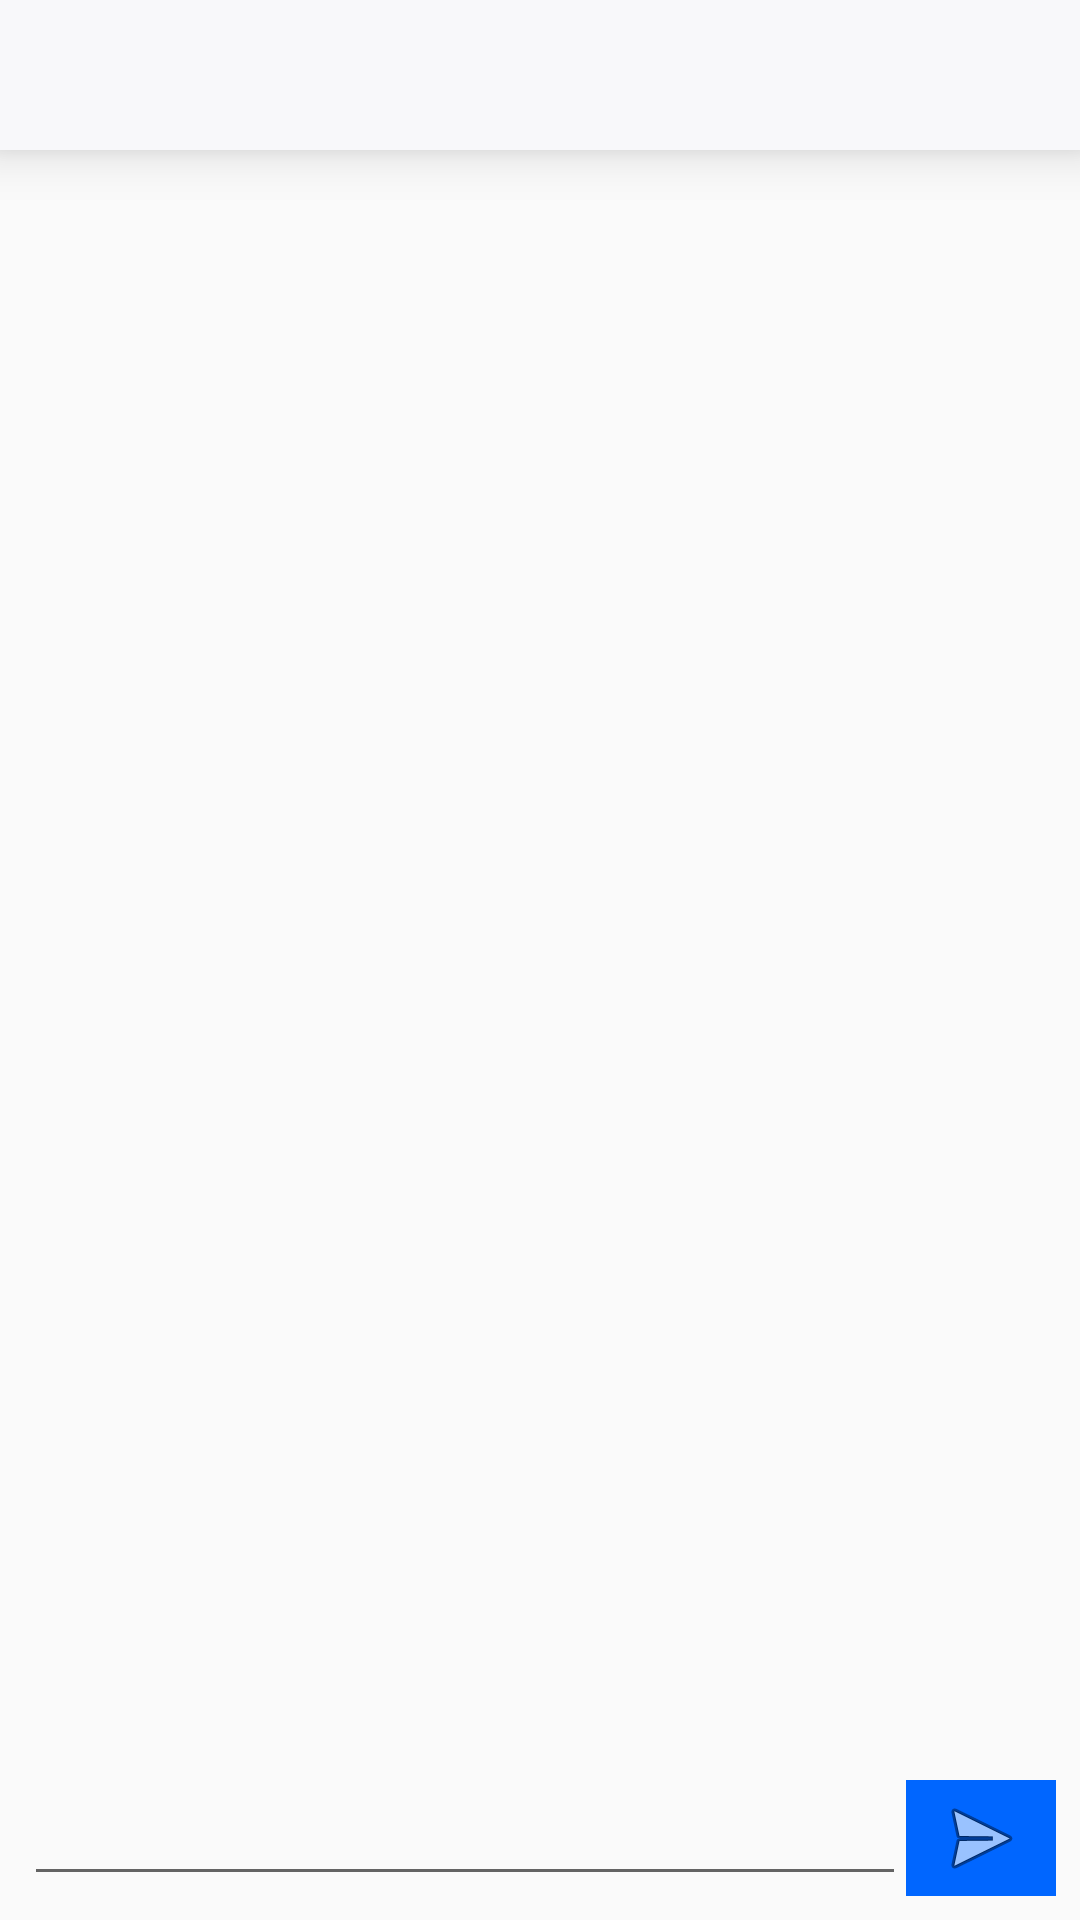

Locate icon controls on the screen. Image size 1080 x 1920, boxes as (x1, y1, x2, y2).
send: (906, 1780, 1056, 1896)
